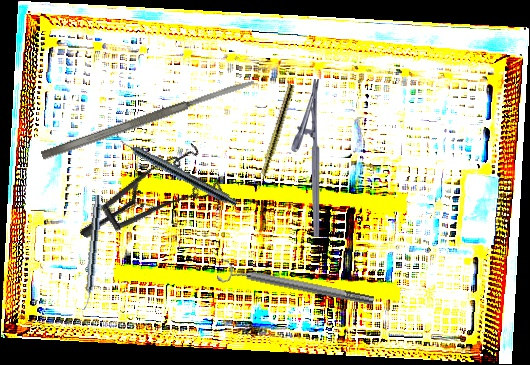Fixation Ring: (216, 256, 376, 315)
Handpiece: (112, 132, 240, 209), (253, 83, 296, 194), (81, 194, 103, 311)
Needle Holder: (291, 79, 320, 237)
Spatula Surgical: (40, 76, 256, 162)
Speculum: (78, 119, 235, 286)
